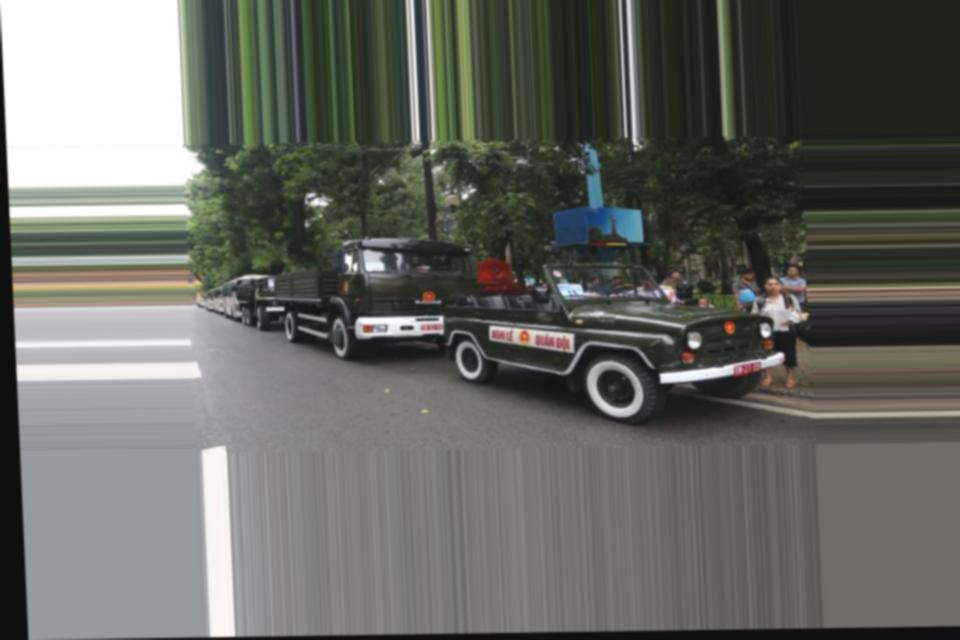License_Plate: (732, 358, 766, 384), (416, 321, 448, 336)
